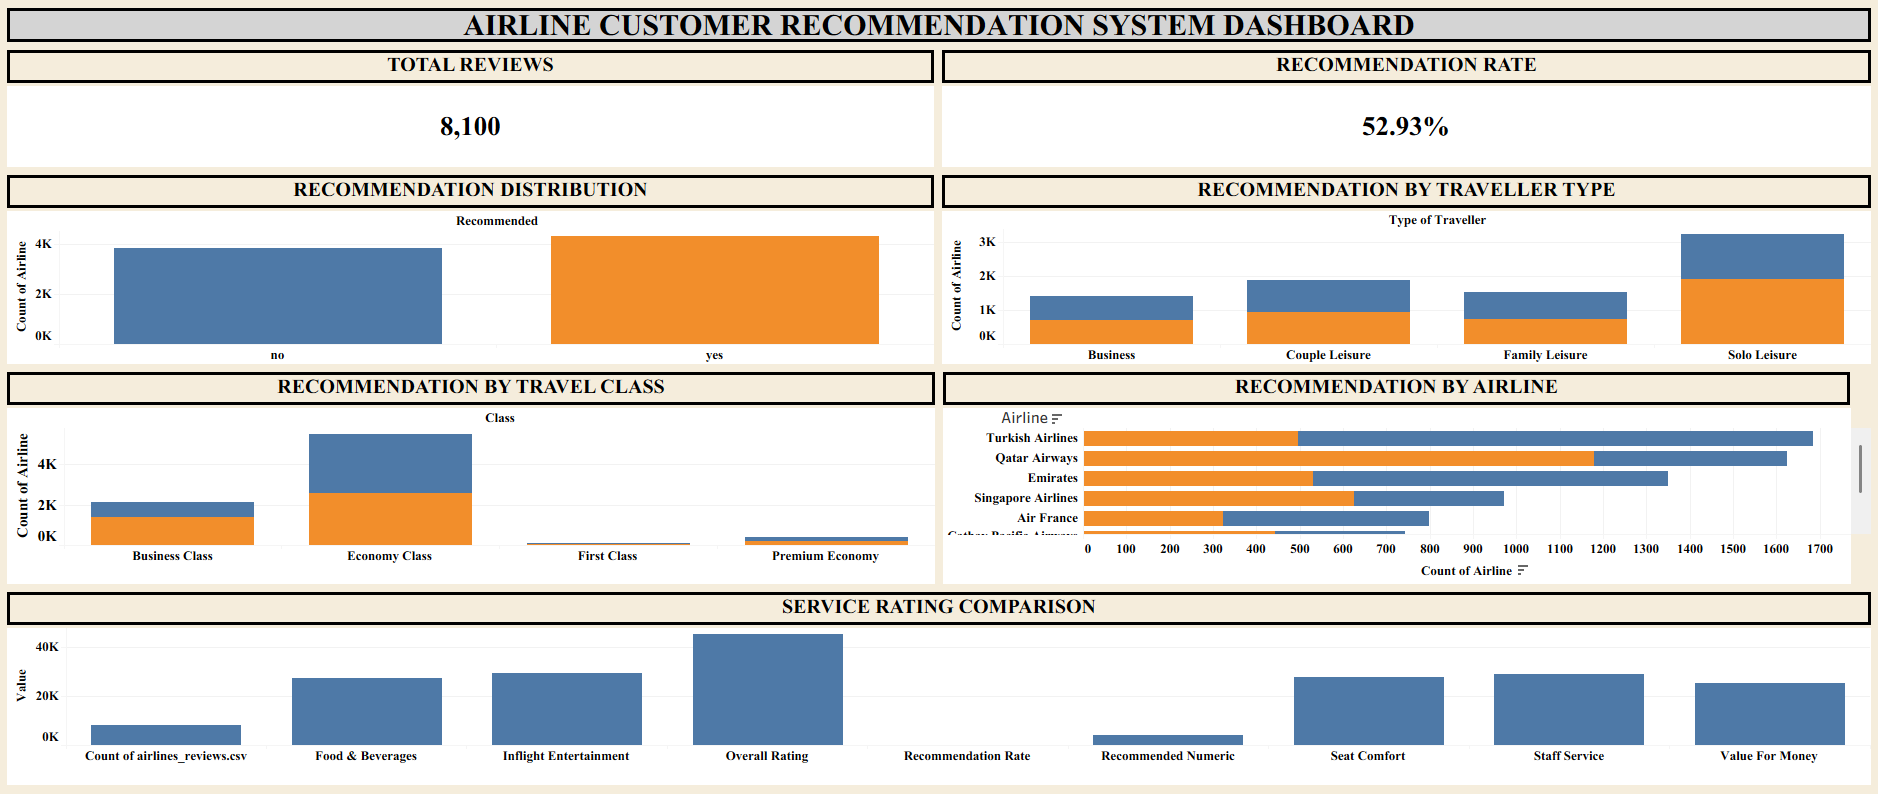

The page's visual inventory and layout, read from the dashboard file:
{"tool":"tableau","page":{"name":"Dashboard 1","canvas":[1000,1000],"units":"permille","ordinal":0},"visuals":[{"type":"text","box":[4.7,10,896.9,62.4]},{"type":"legend","title":"RECOMMENDATION DISTRIBUTION","param":"[federated.0atwe5i0qgj0te16ctjci11erwm7].[none:Recommended:nk]","box":[901.6,10,93.7,124.9]},{"type":"worksheet","title":"TOTAL REVIEWS","mark":"Automatic","box":[4.7,72.4,448.3,153.6]},{"type":"worksheet","title":"RECOMMENDATION RATE","mark":"Automatic","box":[453,72.4,448.6,153.6]},{"type":"worksheet","title":"RECOMMENDATION DISTRIBUTION","mark":"Bar","rows":["Airline"],"cols":["Recommended"],"box":[4.7,226,448.3,258.4]},{"type":"worksheet","title":"RECOMMENDATION BY TRAVELLER TYPE","mark":"Automatic","rows":["Airline"],"cols":["Type of Traveller"],"box":[453,226,448.6,258.4]},{"type":"worksheet","title":"RECOMMENDATION BY TRAVEL CLASS","mark":"Automatic","rows":["Airline"],"cols":["Class"],"box":[4.7,484.4,448.3,320.9]},{"type":"worksheet","title":"RECOMMENDATION BY AIRLINE","mark":"Automatic","rows":["Airline"],"cols":["Airline"],"box":[453,484.4,448.6,320.9]},{"type":"worksheet","title":"SERVICE RATING COMPARISON","mark":"Bar","box":[4.7,805.2,896.9,184.8]}]}

Visuals, with their boxes on the dashboard's canvas, which has no fixed pixel size, in thousandths of its width and height (x1, y1, x2, y2). These are canvas units, not pixel positions in the 1878x794 screenshot, which may show the page scaled, cropped or inside an application window:
text: bbox=[5, 10, 902, 72]
"RECOMMENDATION DISTRIBUTION" legend: bbox=[902, 10, 995, 135]
"TOTAL REVIEWS" worksheet: bbox=[5, 72, 453, 226]
"RECOMMENDATION RATE" worksheet: bbox=[453, 72, 902, 226]
"RECOMMENDATION DISTRIBUTION" worksheet (Bar marks): bbox=[5, 226, 453, 484]
"RECOMMENDATION BY TRAVELLER TYPE" worksheet: bbox=[453, 226, 902, 484]
"RECOMMENDATION BY TRAVEL CLASS" worksheet: bbox=[5, 484, 453, 805]
"RECOMMENDATION BY AIRLINE" worksheet: bbox=[453, 484, 902, 805]
"SERVICE RATING COMPARISON" worksheet (Bar marks): bbox=[5, 805, 902, 990]
